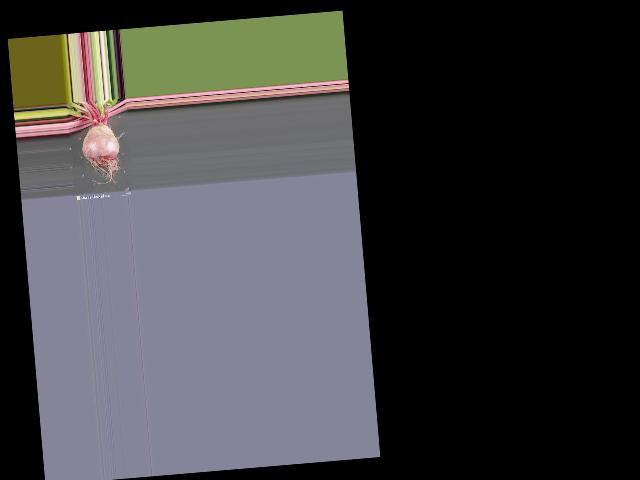beet: (65, 98, 123, 190)
